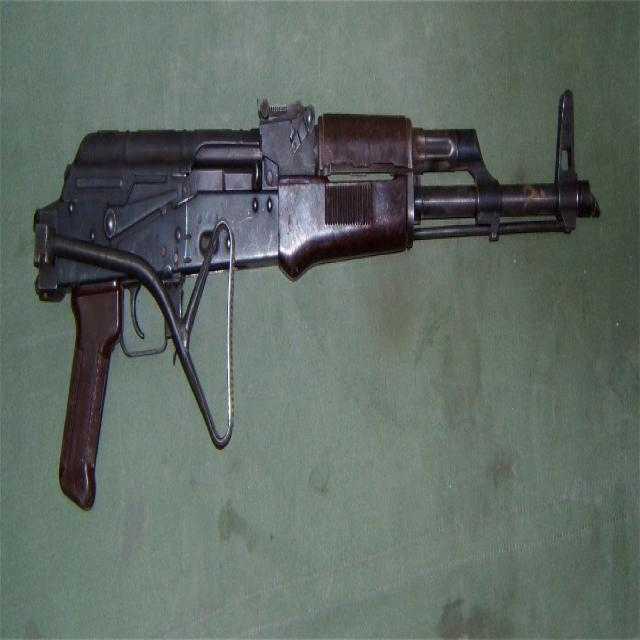weapon: (30, 87, 602, 514)
